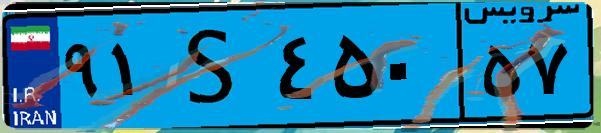0: (385, 28, 445, 110)
1: (110, 28, 158, 98)
4: (270, 28, 330, 110)
5: (330, 28, 385, 110), (475, 38, 525, 113)
7: (525, 38, 570, 115)
9: (57, 26, 110, 100)
S: (158, 12, 270, 120)
